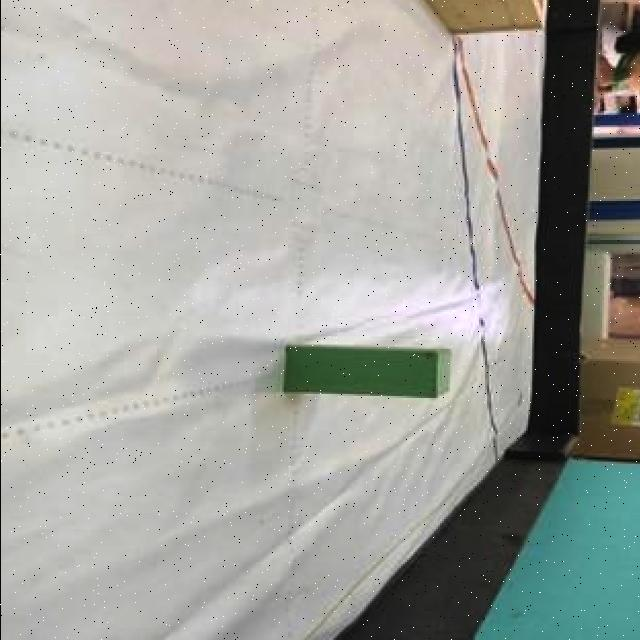greenbox: (286, 346, 456, 400)
